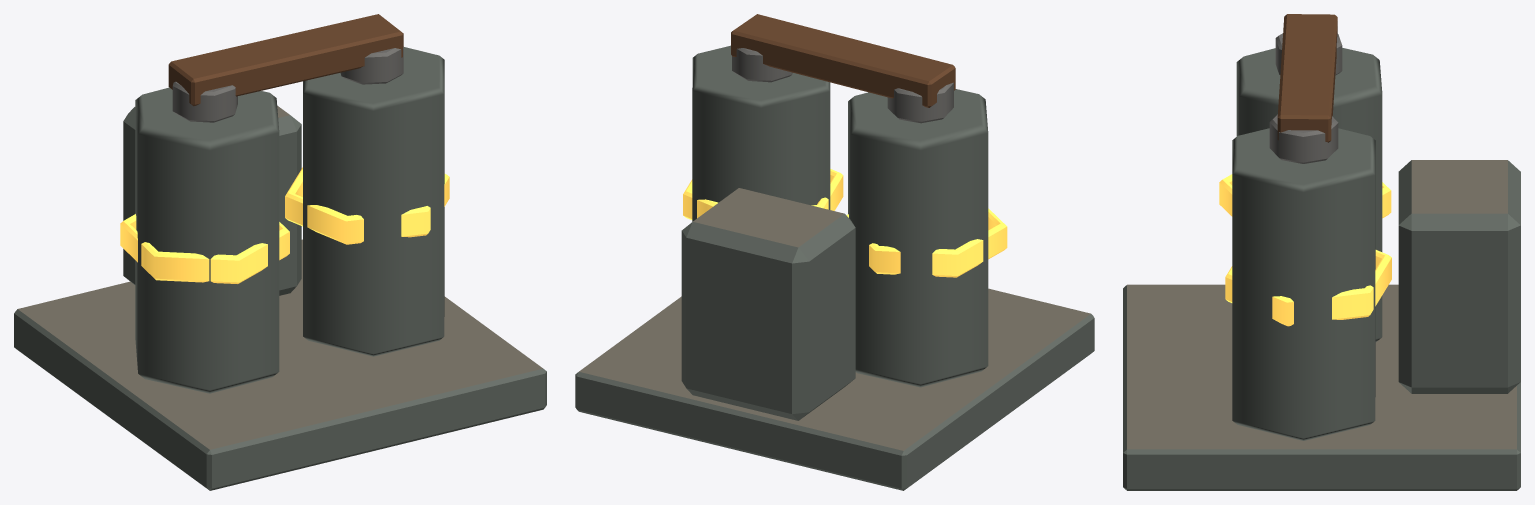
File: R4X_Battery_LOD1.fbx
The picture shows the model from 3 angles, left to right: view 1: azimuth 30°, elevation 25°; view 2: azimuth 150°, elevation 25°; view 3: azimuth 270°, elevation 25°; orthographic projection. The views are drawn at different scales.
Visible parts, largest first — view 1: R4X_Battery_LOD1; view 2: R4X_Battery_LOD1; view 3: R4X_Battery_LOD1.
Boxes of the visible parts, x1,y1,x2,y2 form: R4X_Battery_LOD1: (14, 14, 546, 490); R4X_Battery_LOD1: (575, 14, 1094, 490); R4X_Battery_LOD1: (1123, 14, 1520, 490).
Size of the model in its own units: 0.52 by 0.495 by 0.52.
